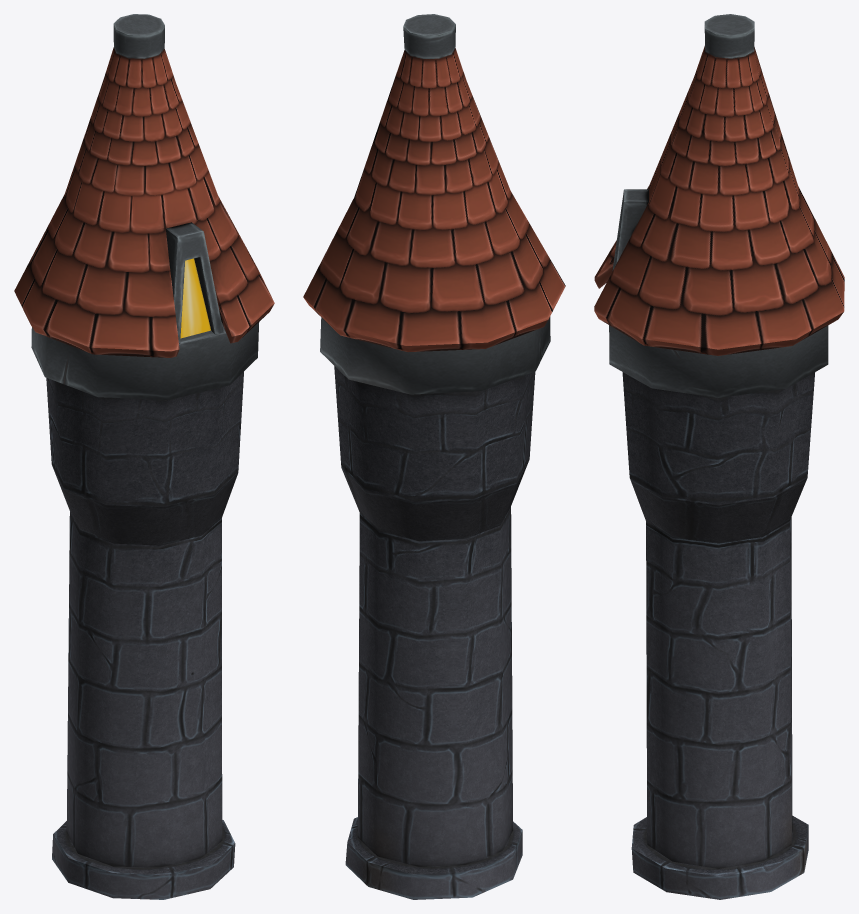
The model's file is Tower_4.fbx.
3 renders of one model, left to right at view 1: azimuth 30°, elevation 25°; view 2: azimuth 150°, elevation 25°; view 3: azimuth 270°, elevation 25°, orthographic.
Visible parts, largest first — view 1: Tower_4; view 2: Tower_4; view 3: Tower_4.
Part boxes in pixels (x1,y1,x2,y2): Tower_4: (14, 14, 274, 899); Tower_4: (303, 14, 565, 899); Tower_4: (594, 14, 844, 899).
Size of the model in its own units: 349 by 1225 by 332.
